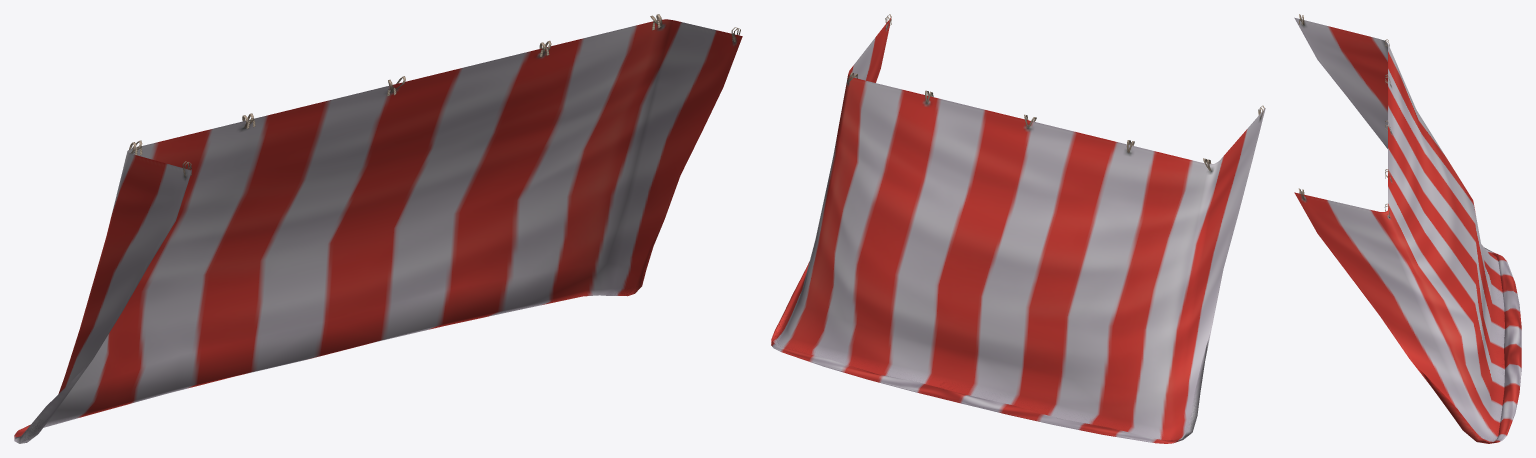
Rendered from jsf_BackSide_s03_c01_t02.fbx.
The picture shows the model from 3 angles, left to right: view 1: azimuth 30°, elevation 25°; view 2: azimuth 150°, elevation 25°; view 3: azimuth 270°, elevation 25°; orthographic projection. The views are drawn at different scales.
Visible parts, largest first — view 1: jsf_BackSide_s03_c01_t02; view 2: jsf_BackSide_s03_c01_t02; view 3: jsf_BackSide_s03_c01_t02.
Boxes of the visible parts, box(x1,y1,x2,y2) form: jsf_BackSide_s03_c01_t02: box(14, 14, 742, 443); jsf_BackSide_s03_c01_t02: box(771, 14, 1265, 443); jsf_BackSide_s03_c01_t02: box(1294, 14, 1521, 443).
Size of the model in its own units: 348 by 205 by 171.
